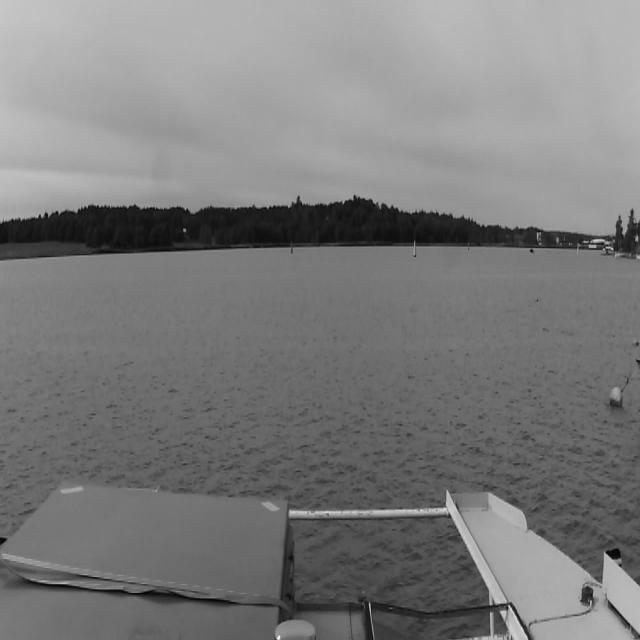buoy: (610, 376, 632, 407), (413, 240, 417, 257), (576, 244, 580, 254), (291, 242, 293, 253), (468, 242, 470, 250)
ship: (529, 249, 535, 253)
